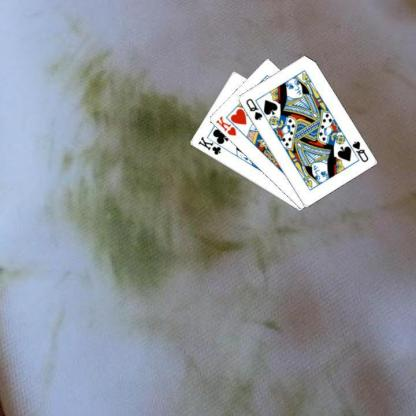KC: (195, 134, 227, 156)
KH: (213, 113, 238, 137)
QS: (244, 96, 264, 121), (350, 138, 369, 164)
